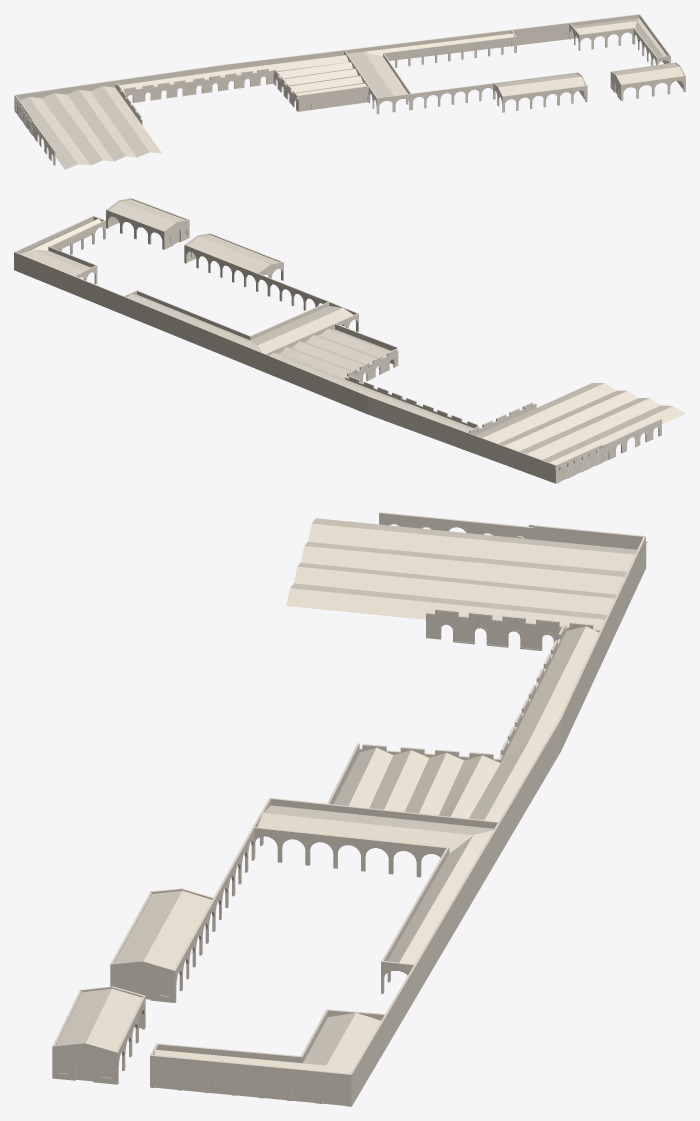
The model's file is M02 Bodega 3.glb.
The picture shows the model from 3 angles, top to bottom: view 1: azimuth 30°, elevation 25°; view 2: azimuth 150°, elevation 25°; view 3: azimuth 270°, elevation 25°; orthographic projection. The views are drawn at different scales.
Parts seen in each view (by area): view 1: M02 Bodega Tomba 20, M02 Bodega Tomba 16, M02 Bodega Tomba 19, M02 Bodega Tomba 18.001, M02 Bodega Tomba 17, M02 Bodega Tomba 15; view 2: M02 Bodega Tomba 20, M02 Bodega Tomba 16, M02 Bodega Tomba 19, M02 Bodega Tomba 18.001, M02 Bodega Tomba 17, M02 Bodega Tomba 15; view 3: M02 Bodega Tomba 20, M02 Bodega Tomba 16, M02 Bodega Tomba 19, M02 Bodega Tomba 18.001, M02 Bodega Tomba 15, M02 Bodega Tomba 17.
Part boxes in pixels (x1,y1,x2,y2): M02 Bodega Tomba 20: [16, 14, 685, 100]; M02 Bodega Tomba 16: [20, 86, 161, 169]; M02 Bodega Tomba 19: [347, 30, 587, 114]; M02 Bodega Tomba 18.001: [225, 50, 369, 111]; M02 Bodega Tomba 17: [119, 67, 280, 102]; M02 Bodega Tomba 15: [14, 83, 142, 142]; M02 Bodega Tomba 20: [14, 198, 555, 483]; M02 Bodega Tomba 16: [476, 382, 685, 464]; M02 Bodega Tomba 19: [124, 233, 358, 353]; M02 Bodega Tomba 18.001: [265, 323, 398, 392]; M02 Bodega Tomba 17: [344, 369, 479, 432]; M02 Bodega Tomba 15: [469, 402, 624, 483]; M02 Bodega Tomba 20: [52, 537, 645, 1106]; M02 Bodega Tomba 16: [286, 512, 636, 629]; M02 Bodega Tomba 19: [110, 797, 493, 1002]; M02 Bodega Tomba 18.001: [324, 731, 551, 828]; M02 Bodega Tomba 15: [426, 521, 647, 650]; M02 Bodega Tomba 17: [464, 625, 598, 762].
Bounding box in the file's own units: 285 × 8.98 × 126.
